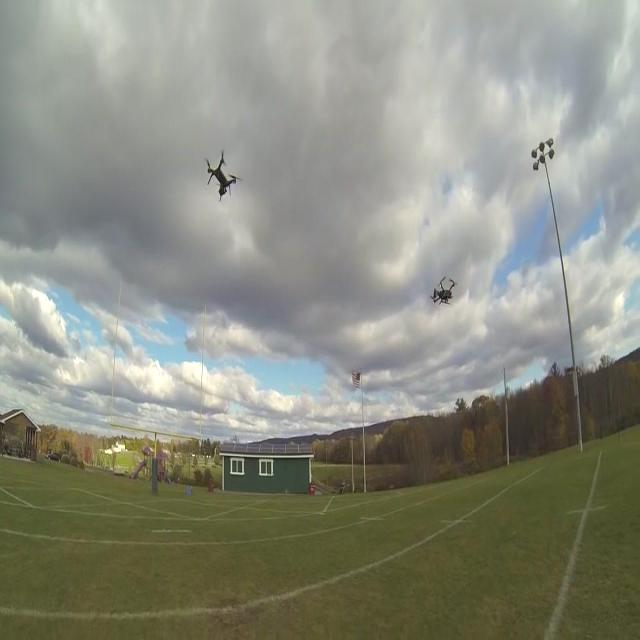drone: (204, 148, 244, 205), (428, 275, 456, 307)
